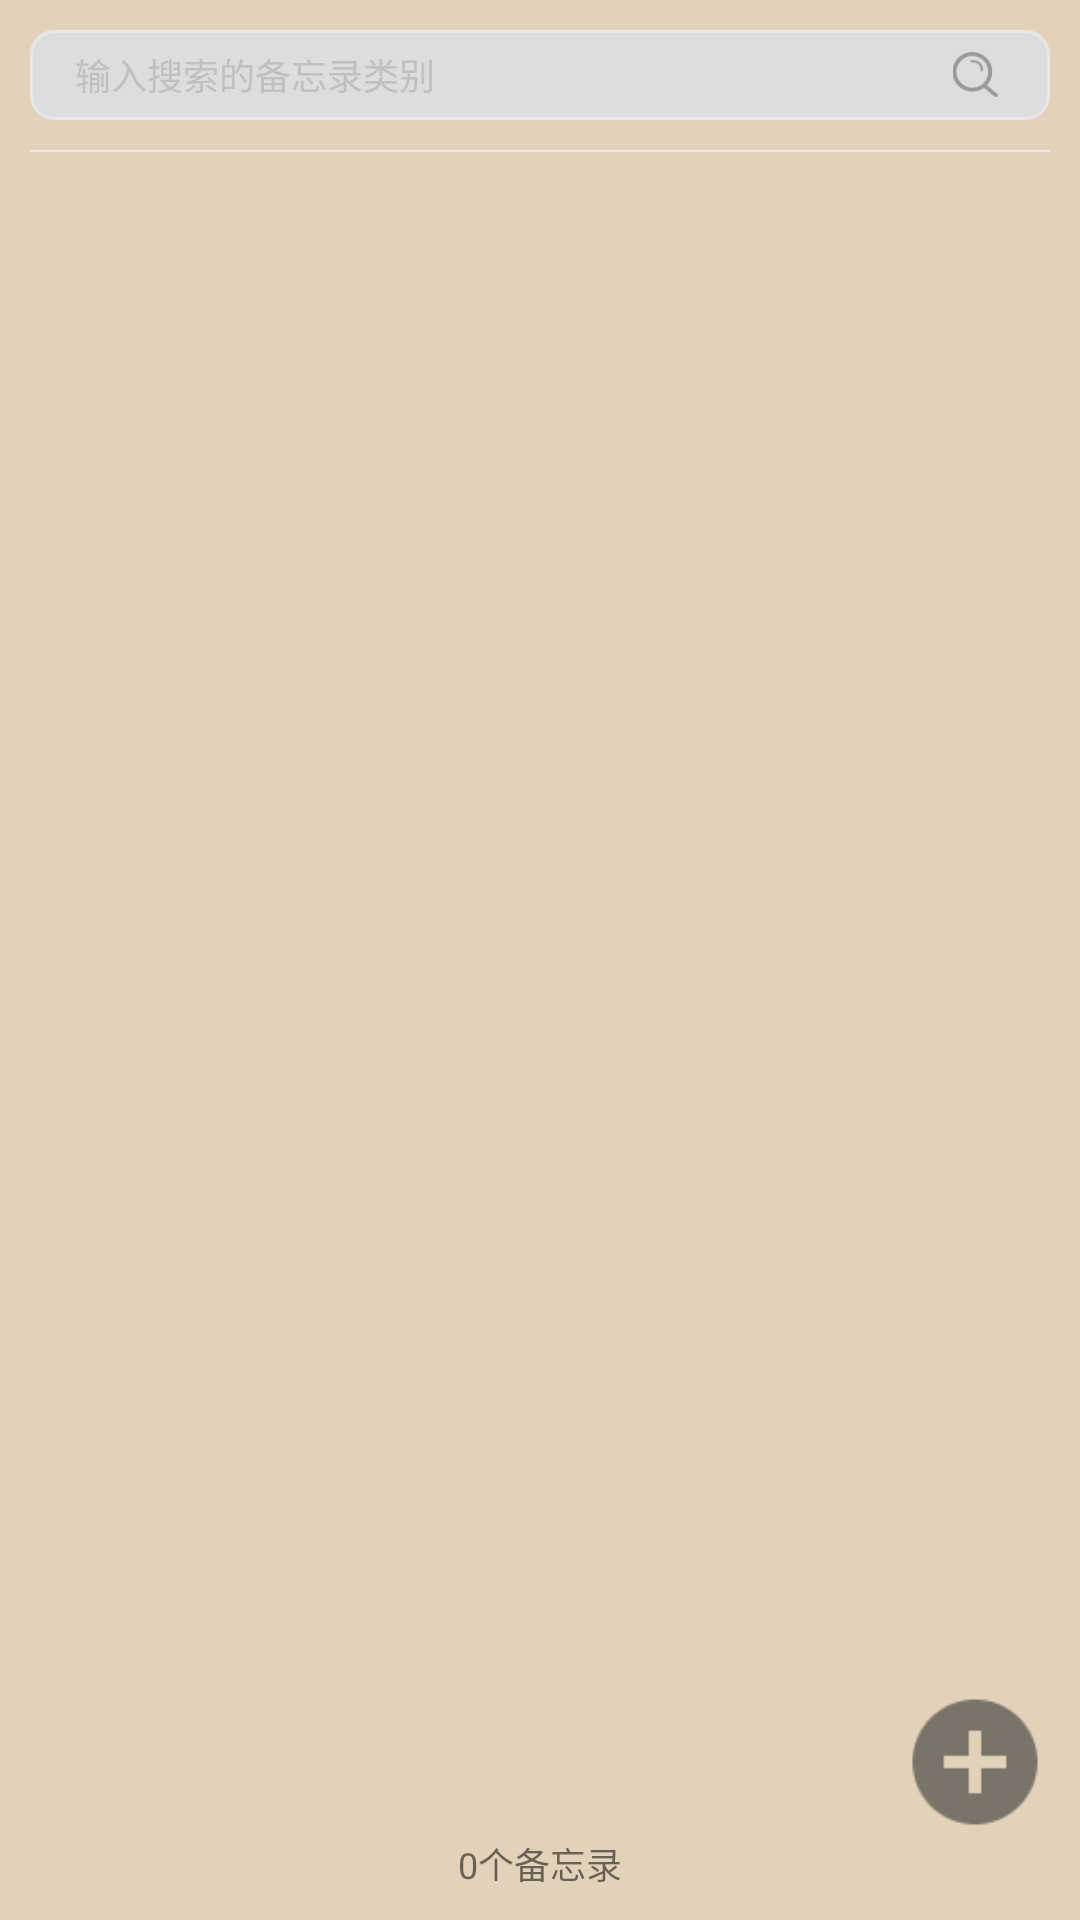

Icon click points for this 1080 x 1920 phone screenshot, format (x=x, y=y):
search: (x=975, y=74)
新建一条备忘录: (x=975, y=1762)
